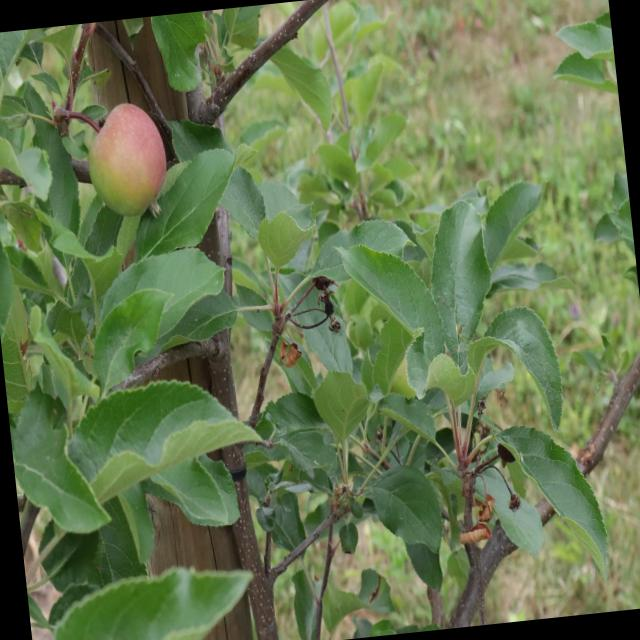-FireBlight-: (452, 466, 502, 544), (267, 328, 301, 377)
